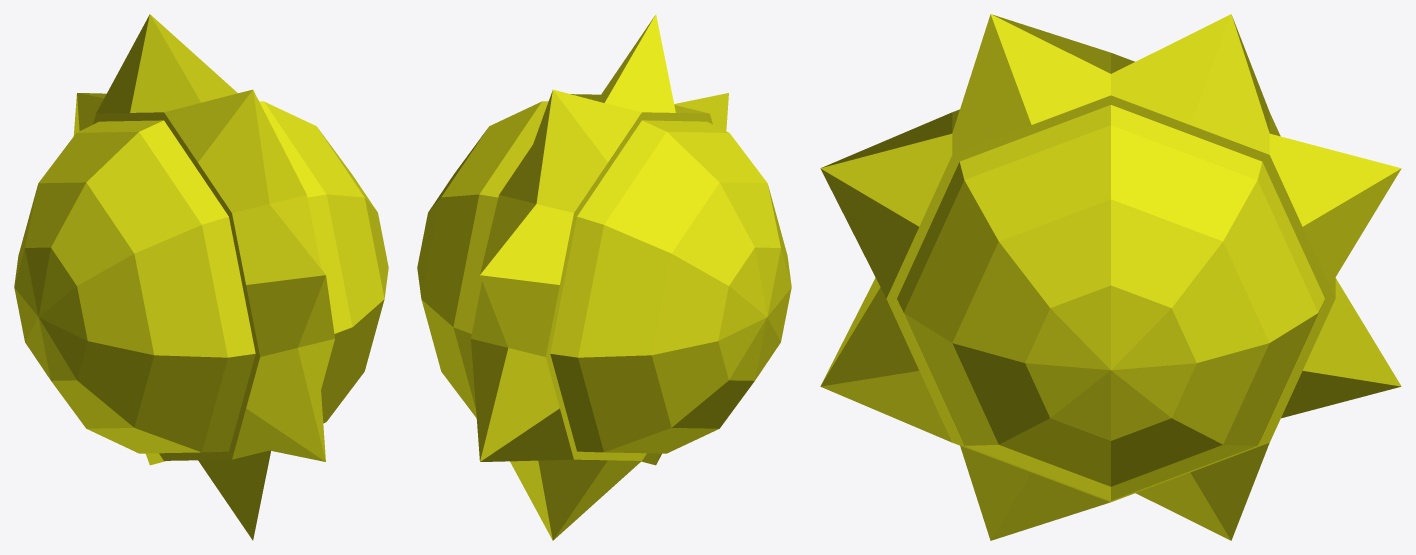
The model's file is sol.fbx.
3 views of the same model, side by side, from view 1: azimuth 30°, elevation 25°; view 2: azimuth 150°, elevation 25°; view 3: azimuth 270°, elevation 25° (orthographic). The views are drawn at different scales.
Visible parts, largest first — view 1: Sphere.001; view 2: Sphere.001; view 3: Sphere.001.
Boxes of the visible parts, x1,y1,x2,y2 form: Sphere.001: [14, 14, 388, 540]; Sphere.001: [417, 14, 791, 540]; Sphere.001: [820, 14, 1401, 540].
Bounding box in the file's own units: 30.34 × 40.17 × 40.17.
